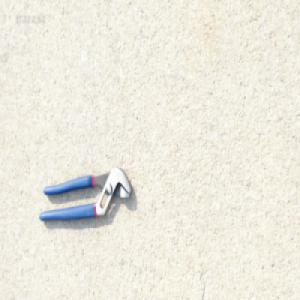Pliers: (37, 164, 132, 224)
